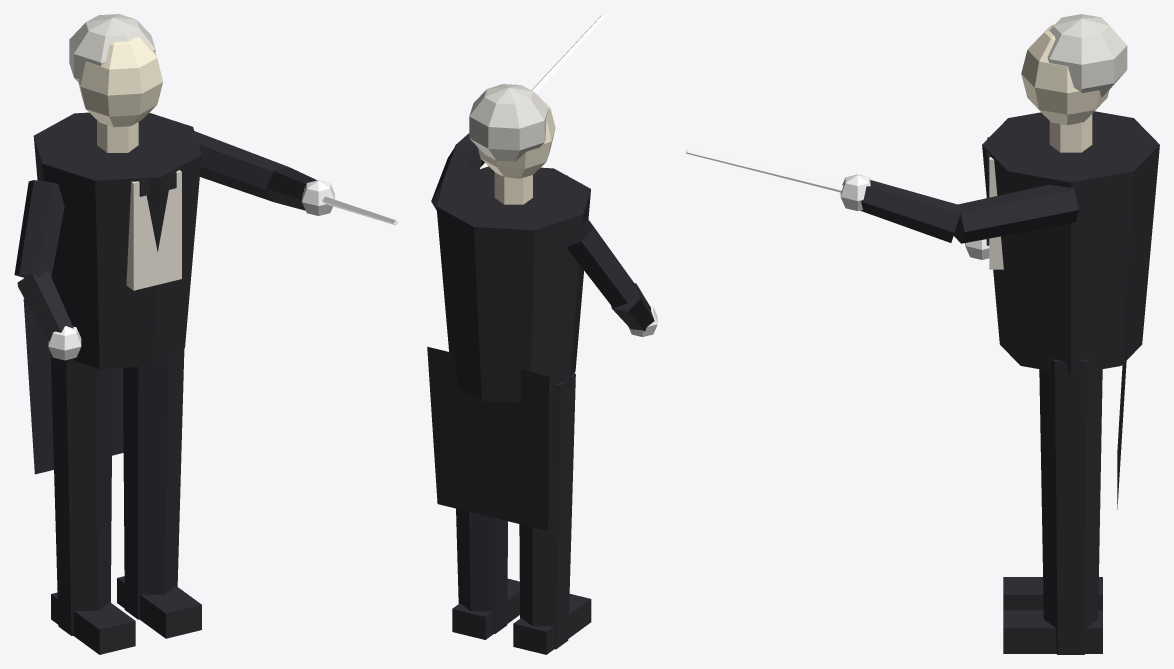
The model's file is Conductor_point.obj.
The picture shows the model from 3 angles, left to right: view 1: azimuth 30°, elevation 25°; view 2: azimuth 150°, elevation 25°; view 3: azimuth 270°, elevation 25°; orthographic projection. The views are drawn at different scales.
Parts seen in each view (by area): view 1: Conductor_point; view 2: Conductor_point; view 3: Conductor_point.
Boxes of the visible parts, x1,y1,x2,y2 form: Conductor_point: [14, 14, 398, 654]; Conductor_point: [427, 14, 657, 654]; Conductor_point: [686, 14, 1159, 654].
Bounding box in the file's own units: 0.809 × 1.89 × 1.33.
Materials: 1 (1 with a texture image).
